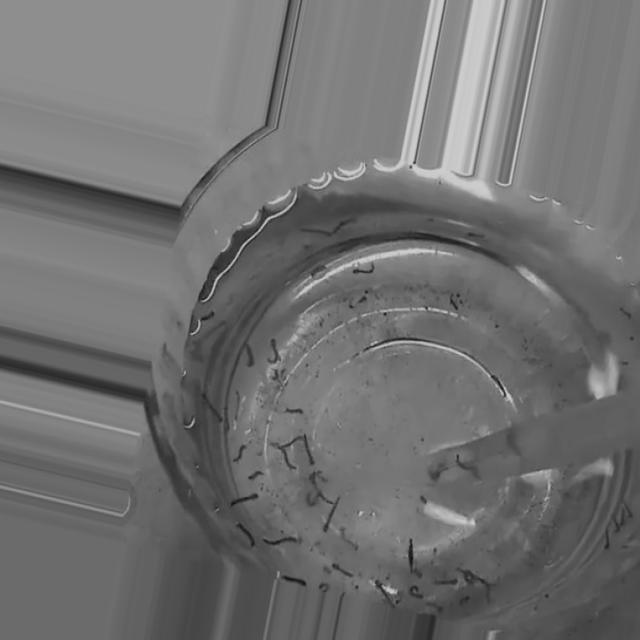larvas: (322, 498, 341, 534), (276, 443, 297, 473), (311, 470, 330, 502), (263, 531, 297, 548), (458, 455, 478, 481), (479, 573, 495, 605), (206, 394, 224, 422), (282, 572, 306, 590), (232, 492, 258, 508), (239, 521, 255, 547), (342, 527, 360, 550), (491, 374, 506, 401), (375, 582, 393, 604), (330, 562, 352, 578), (246, 339, 256, 370), (352, 291, 370, 308), (232, 443, 246, 464), (268, 338, 280, 362), (285, 433, 303, 449), (304, 432, 313, 462), (306, 490, 321, 507), (409, 585, 424, 602), (624, 502, 636, 521), (285, 404, 304, 416), (446, 294, 460, 310), (354, 265, 374, 276), (234, 388, 240, 423), (408, 536, 414, 570), (465, 567, 475, 587), (318, 579, 331, 593), (428, 598, 441, 612), (250, 470, 266, 480), (436, 580, 456, 588), (458, 596, 471, 607), (606, 526, 611, 553), (613, 515, 619, 533), (620, 504, 624, 530)
